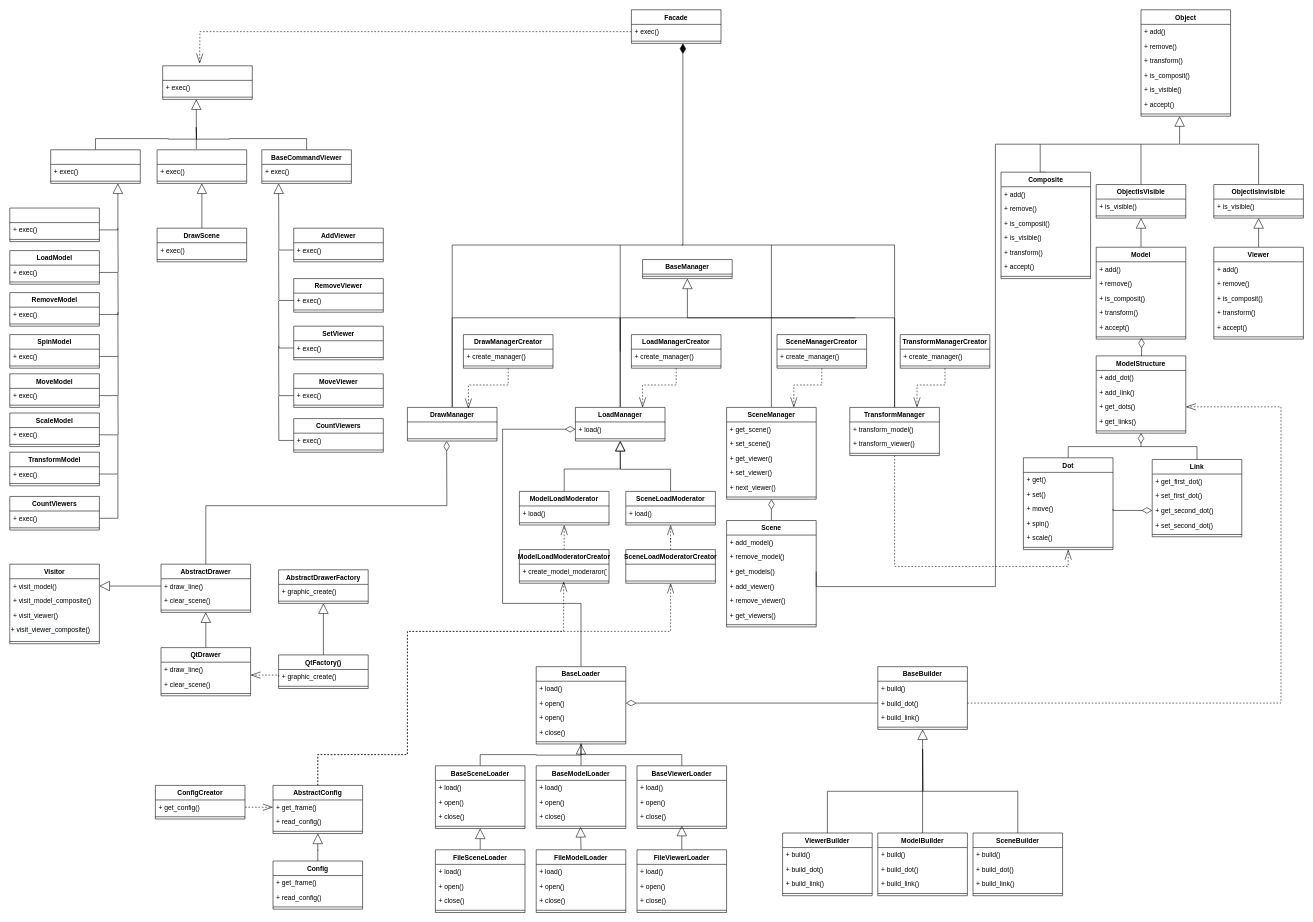
Image size: 1313x922. Some labels were removed from this diagram. Each missing label, with the box of its shape:
+ create_scene_moderaror: (625, 549, 715, 583)
+ draw_model(): (407, 407, 497, 441)
AddModel: (9, 207, 99, 242)
BaseCommand: (162, 65, 252, 99)
BaseCommandModel: (50, 149, 140, 183)
BaseCommandScene: (157, 149, 247, 183)
